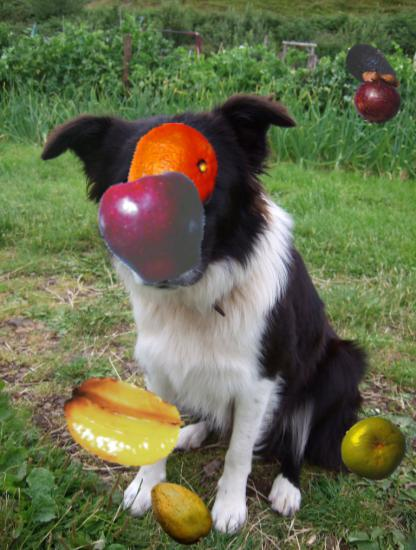Apple: (98, 171, 212, 285)
Avocado: (341, 38, 400, 97)
Carambula: (60, 358, 185, 483)
Clementine: (122, 123, 225, 226)
Mangostan: (351, 68, 408, 125)
Papaya: (143, 475, 218, 550)
Pomelo: (342, 416, 406, 480)
